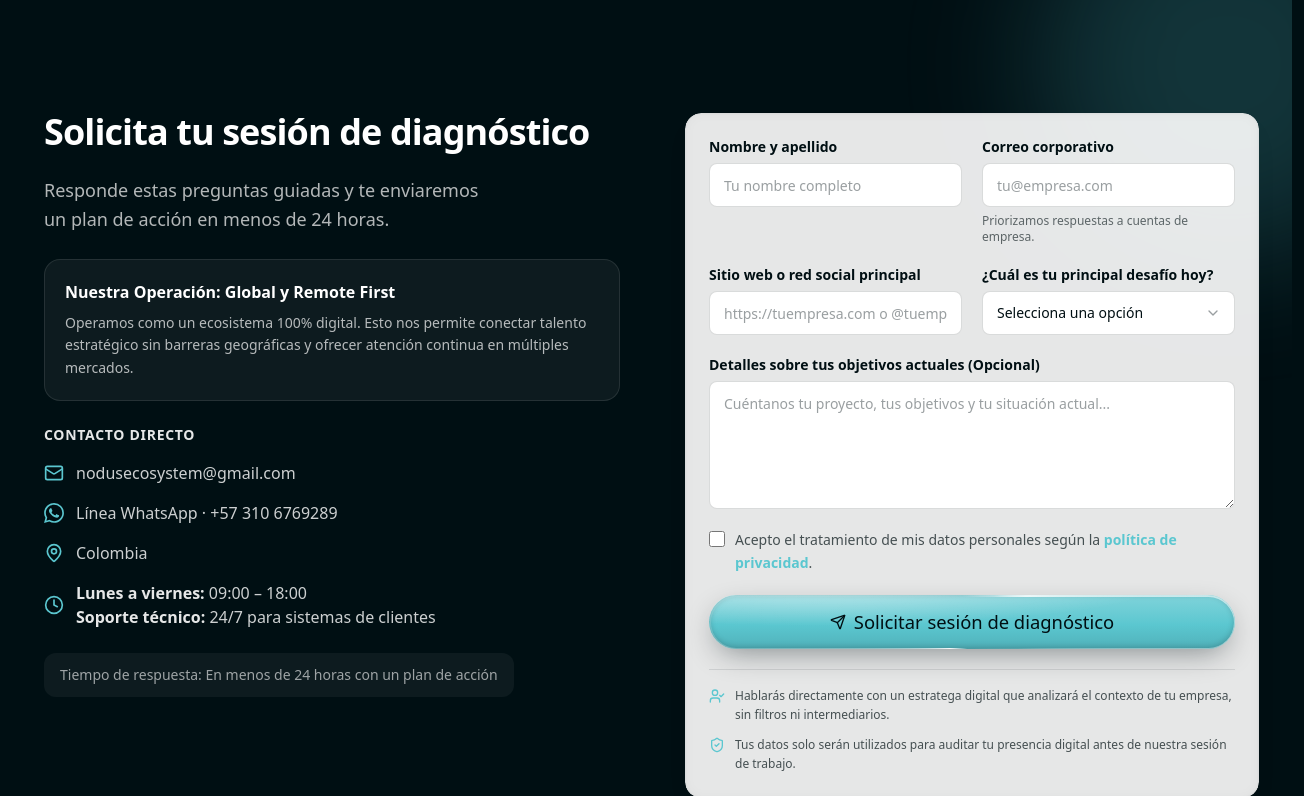
Test case: ContactForm › shows the submit error when EmailJS fails
The image size is (1304, 796).
Step 1. Type "Ana Pérez" into the field labelled "Nombre y apellido" → [836, 185], box [709,163,962,207]
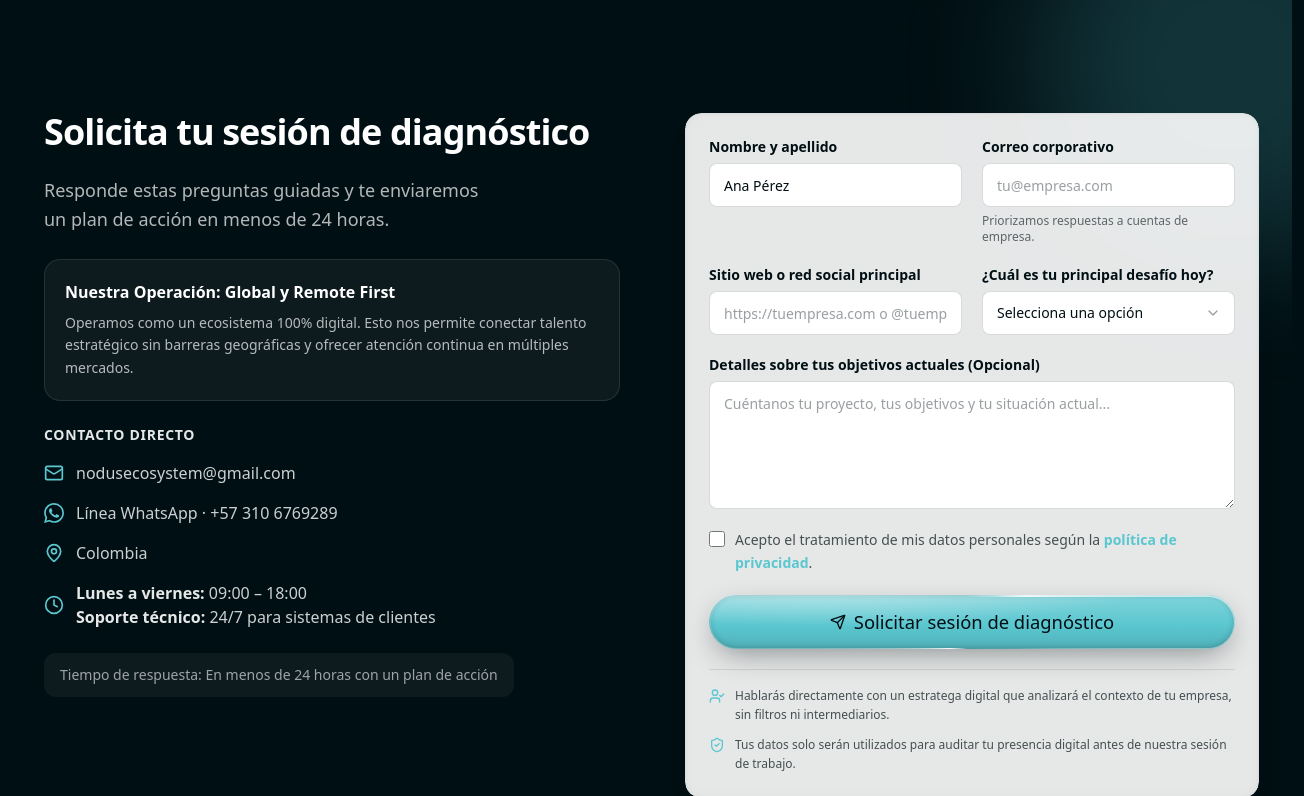
Step 2. Type "ana@example.com" into the field labelled "Correo corporativo" → [1108, 185], box [982,163,1235,207]
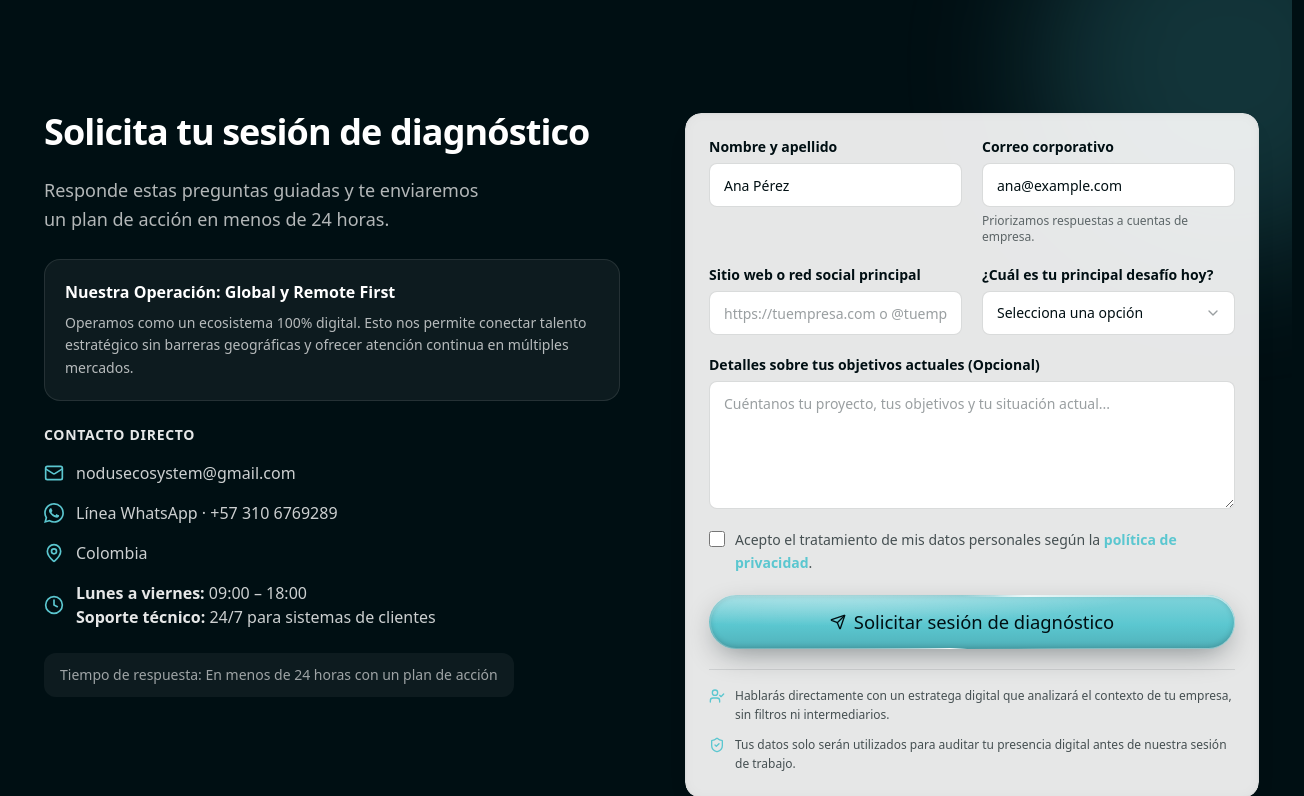
Step 3. Click the checkbox → [717, 539], box [709,531,725,547]
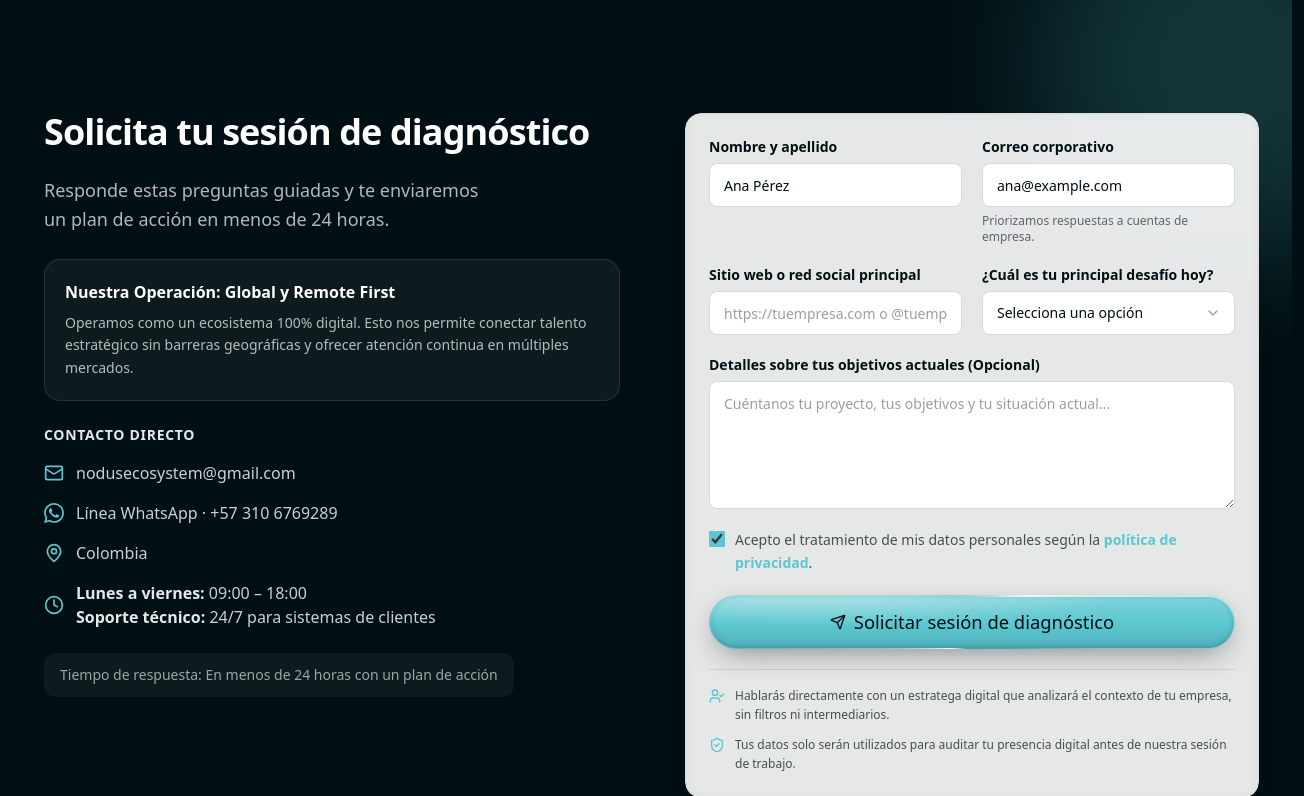
Step 4. Click the button "Solicitar sesión de diagnóstico" → [972, 622], box [709,594,1235,649]
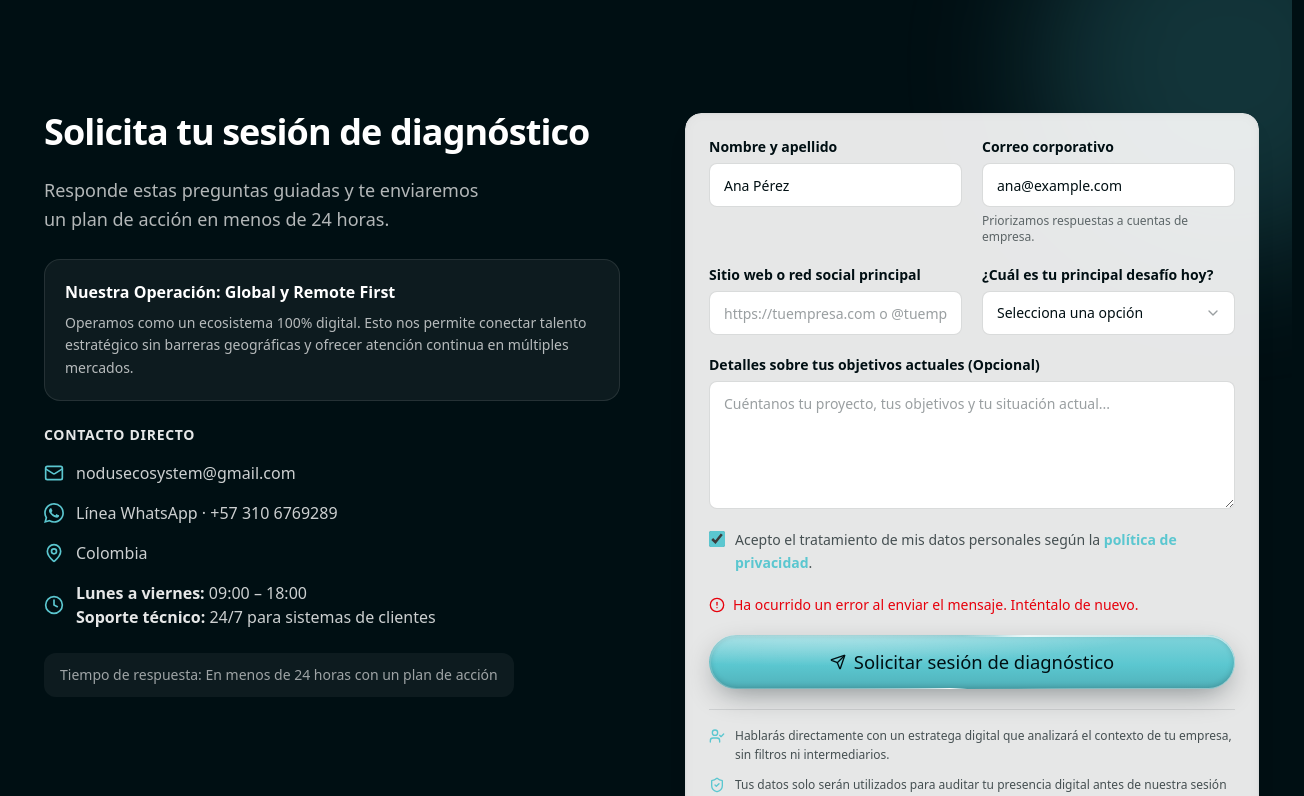
expect the text "Ha ocurrido un error al enviar el mensaje. Inténtalo de nuevo." is shown: met, box [709,594,1139,614]
